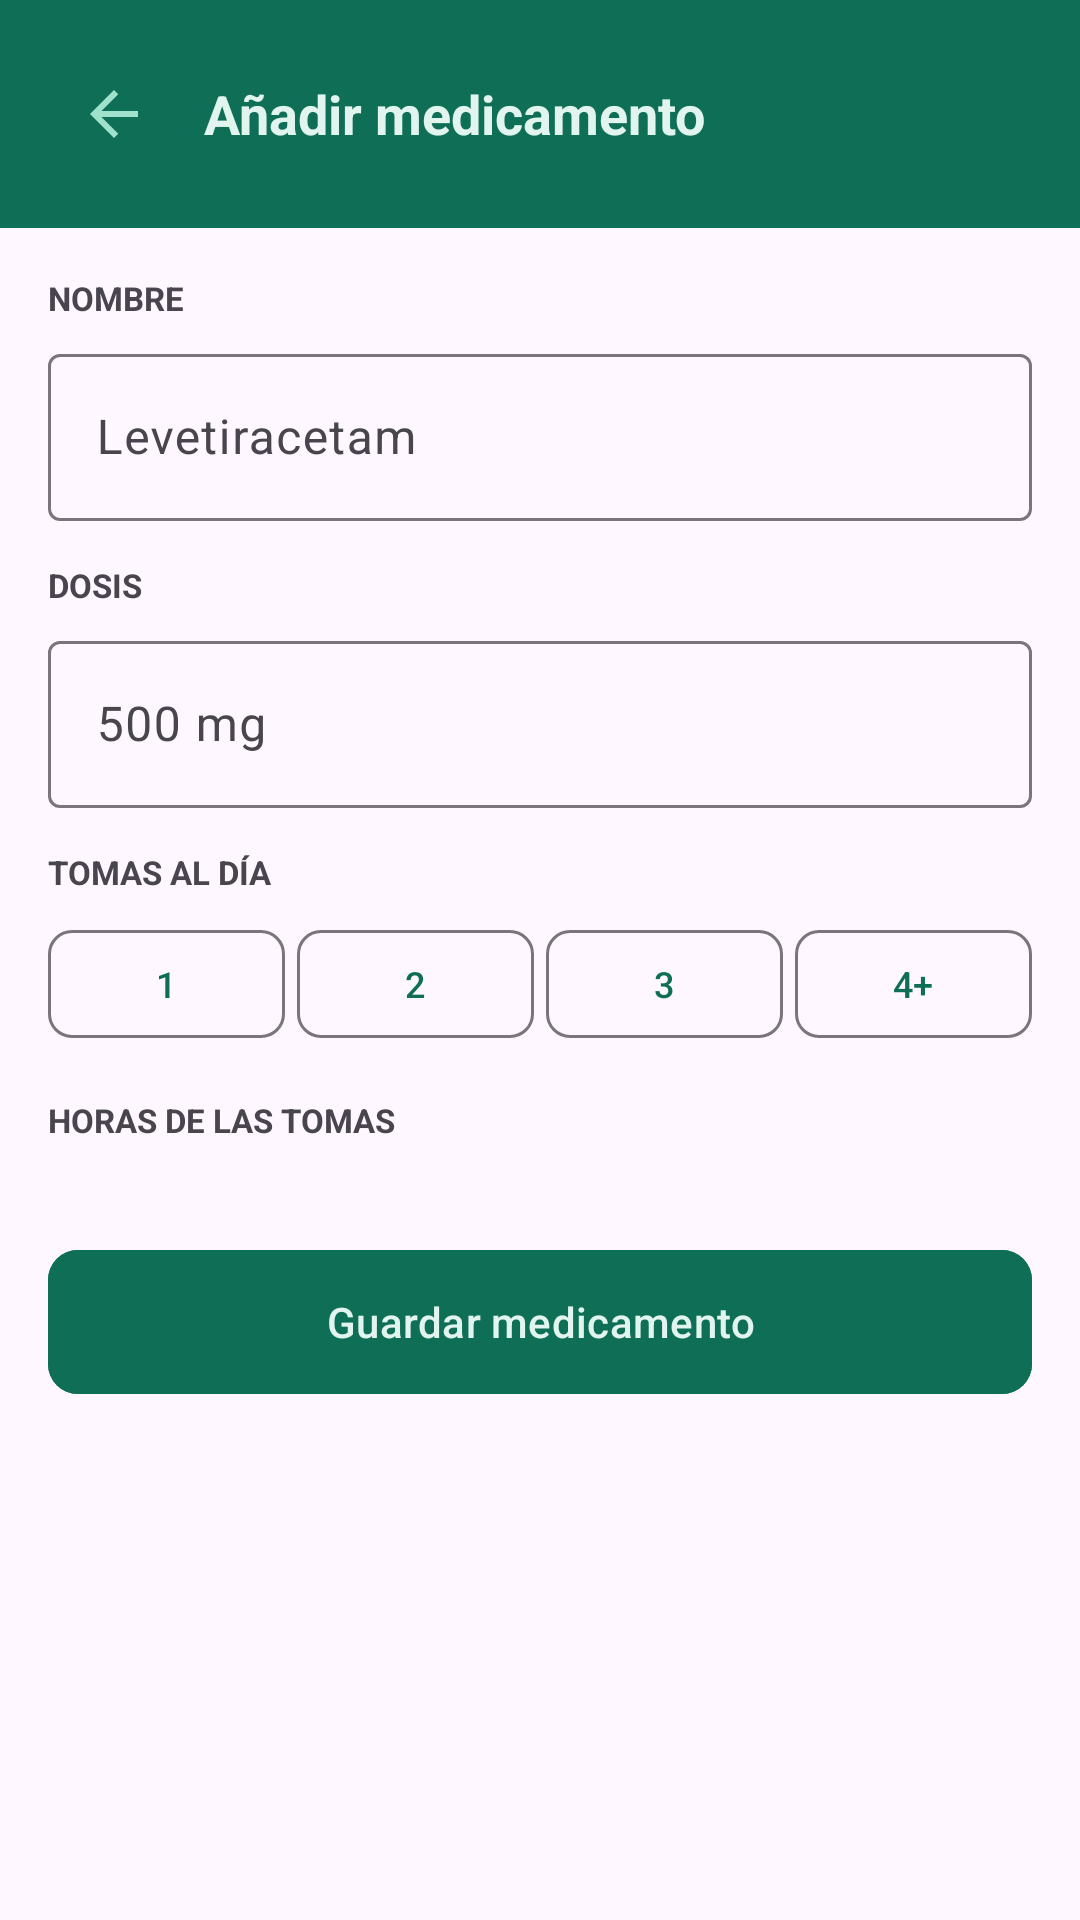

Icons on this 1080px x 1920px Android screen, each with the point to tap as [x,y]:
back: [114,114]
